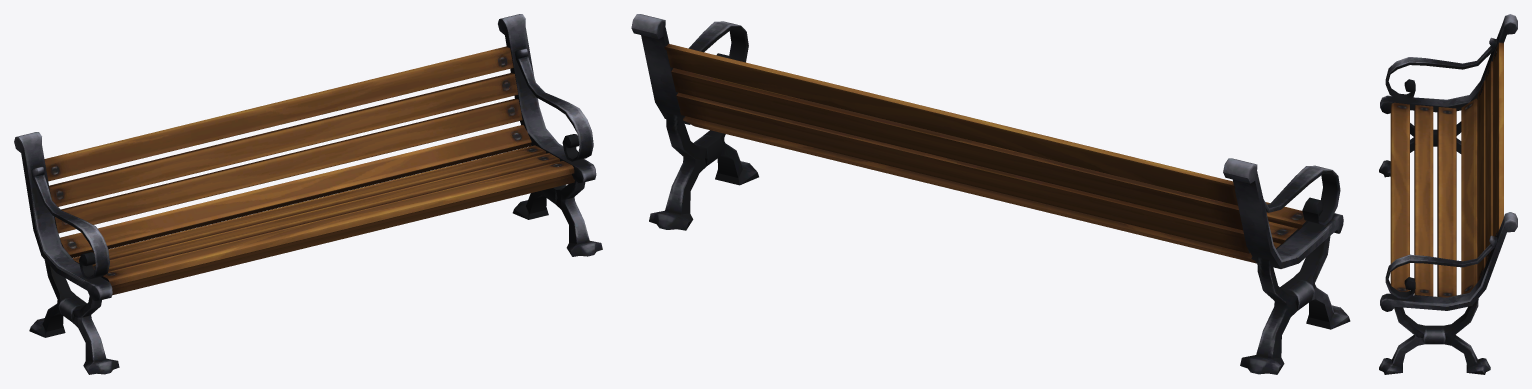
Rendered from syj_zxyizi01.FBX.
3 renders of one model, left to right at view 1: azimuth 30°, elevation 25°; view 2: azimuth 150°, elevation 25°; view 3: azimuth 270°, elevation 25°, orthographic. The views are drawn at different scales.
Visible parts, largest first — view 1: syj_zxyizi01; view 2: syj_zxyizi01; view 3: syj_zxyizi01.
Boxes of the visible parts, x1,y1,x2,y2 form: syj_zxyizi01: (14,14,602,374); syj_zxyizi01: (631,14,1350,374); syj_zxyizi01: (1379,14,1517,374).
Bounding box in the file's own units: 245 × 82.96 × 68.35.
